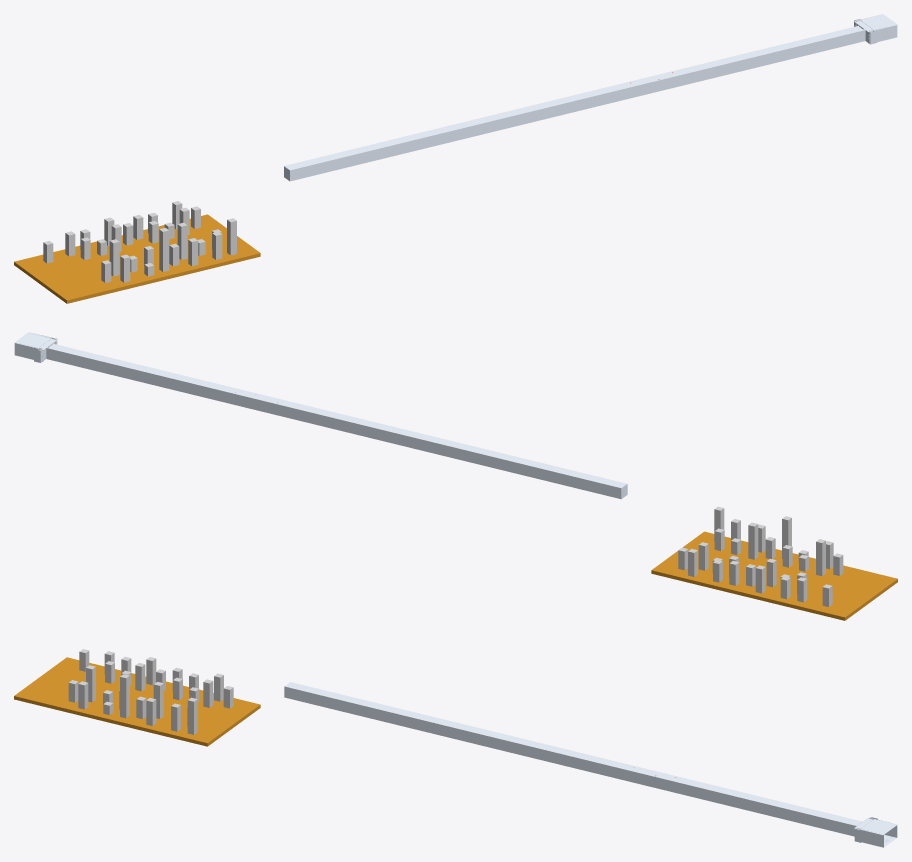
The picture shows the model from 3 angles, top to bottom: view 1: azimuth 30°, elevation 25°; view 2: azimuth 150°, elevation 25°; view 3: azimuth 330°, elevation 25°; orthographic projection.
Visible parts, largest first — view 1: Cube.009, Cube.038; view 2: Cube.009, Cube.038; view 3: Cube.009, Cube.038, Cube.057.
Part boxes in pixels (x1,y1,x2,y2): Cube.009: (284,25,865,181); Cube.038: (14,214,260,303); Cube.009: (46,343,627,499); Cube.038: (651,531,897,620); Cube.009: (284,682,862,836); Cube.038: (14,657,260,746); Cube.057: (120,674,129,718).
Bounding box in the file's own units: 1178 × 76.34 × 127.
